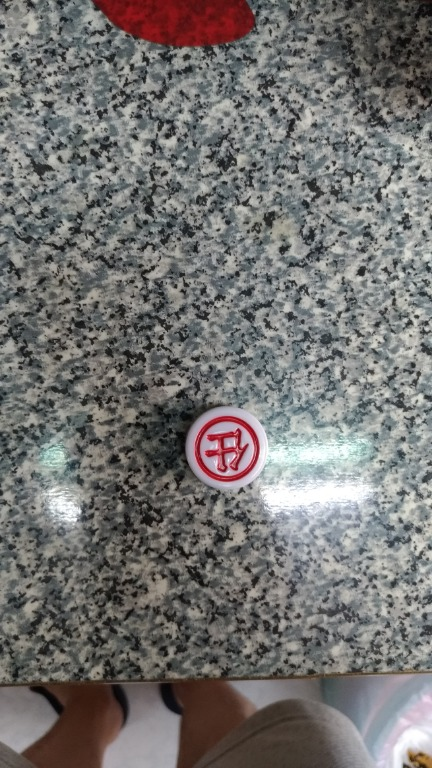r-advisor: (166, 395, 297, 498)
